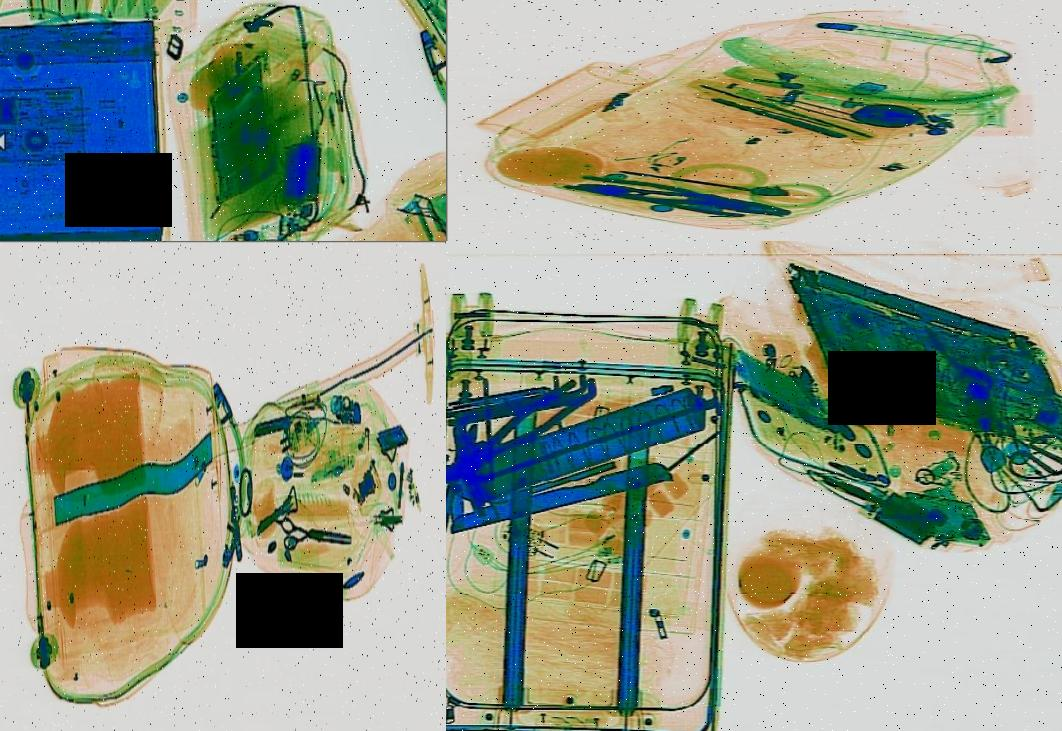Pliers: (446, 370, 605, 491), (562, 172, 803, 221), (570, 175, 763, 218)
Scissors: (279, 514, 355, 555)
